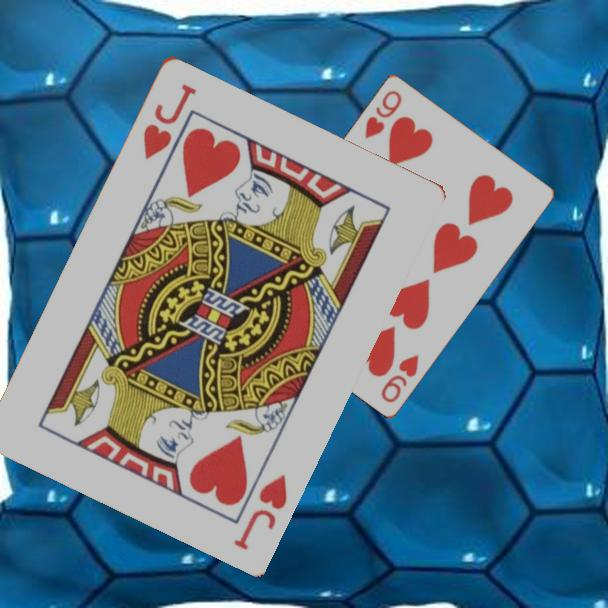h09: (377, 350, 422, 405), (361, 86, 405, 142)
h11: (139, 79, 200, 163), (230, 470, 290, 553)
